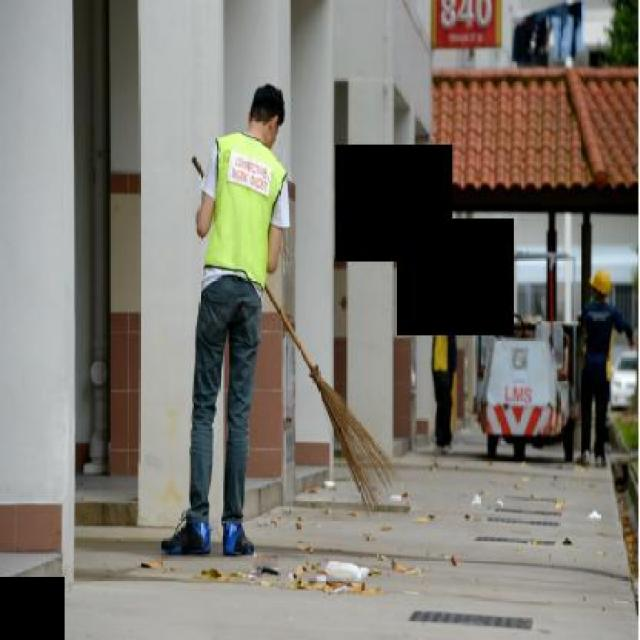plastic bag: (321, 558, 374, 588)
